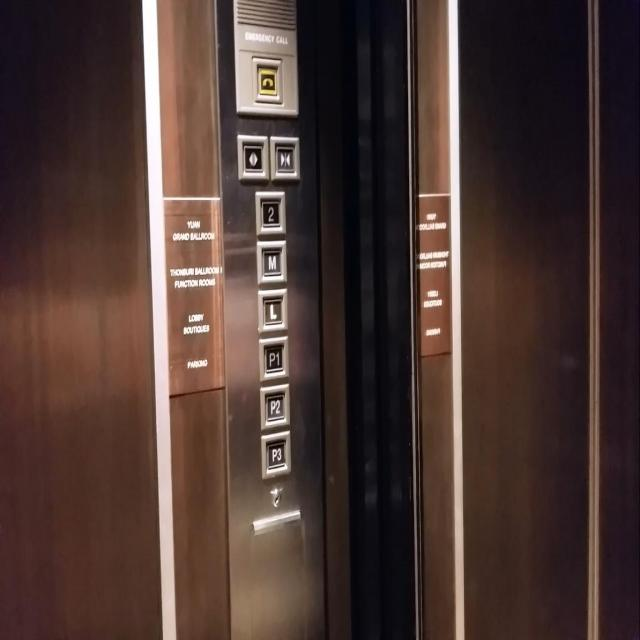2: (254, 189, 286, 237)
L: (257, 287, 288, 333)
M: (255, 240, 288, 284)
P1: (258, 336, 290, 378)
P2: (259, 381, 290, 429)
P3: (259, 430, 292, 478)
call: (251, 54, 284, 107)
close: (268, 134, 301, 184)
keyhole: (268, 487, 284, 508)
open: (236, 133, 269, 182)
